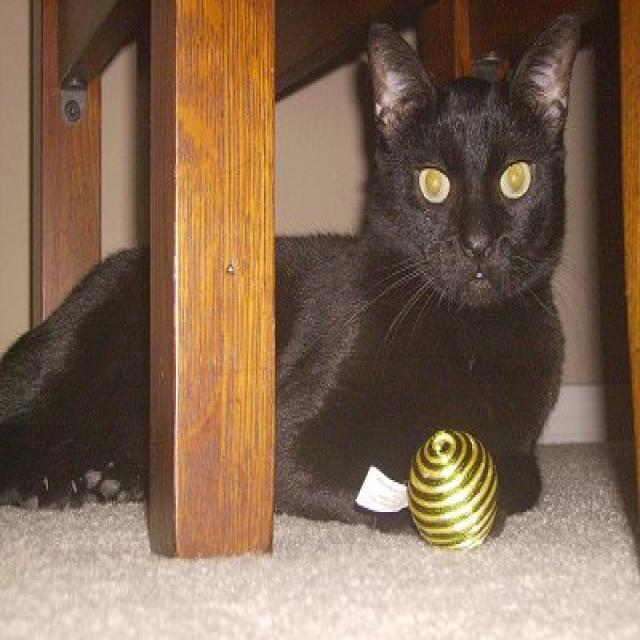Bombay: (336, 0, 587, 316)
